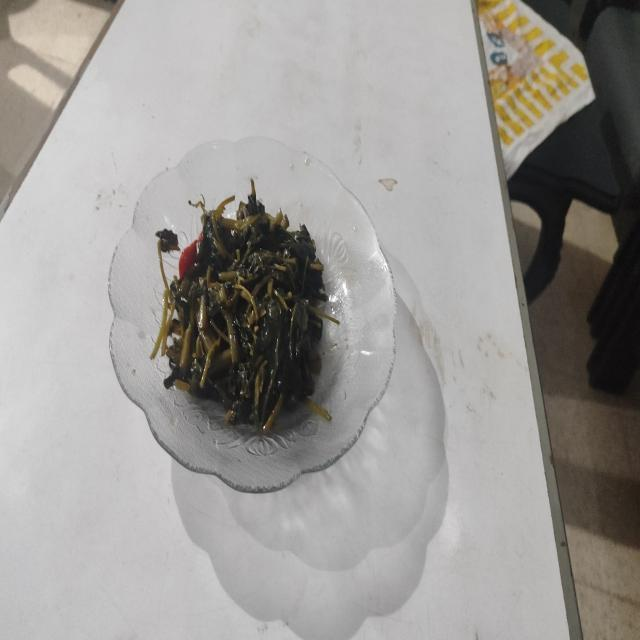tumis_kangkung: (164, 179, 339, 433)
